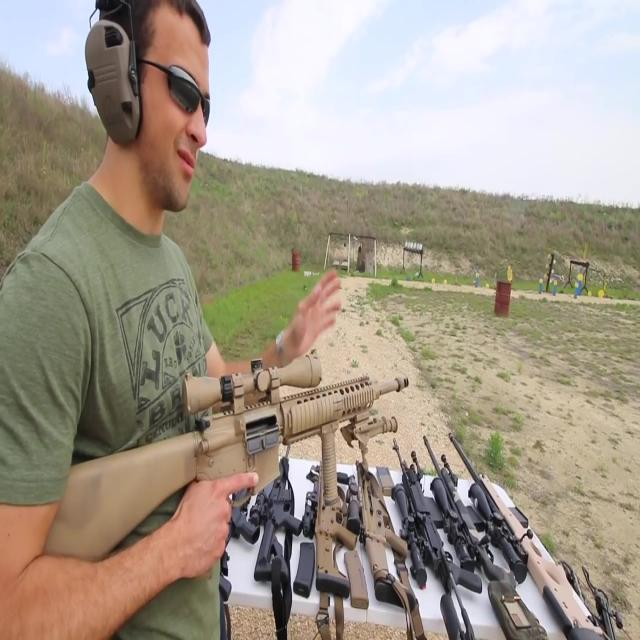Weapon: (192, 412, 636, 640), (21, 348, 418, 552)
